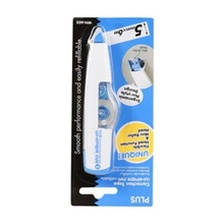book: (67, 15, 159, 210)
correction_fluid: (79, 25, 125, 175)
